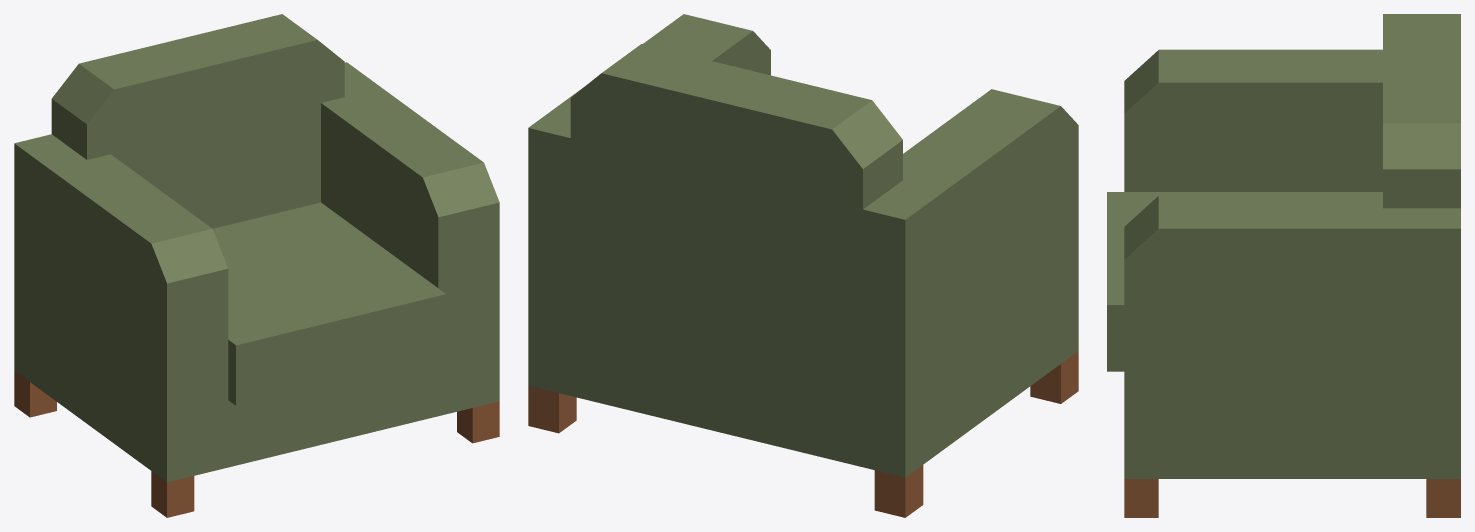
The model's file is loungeChair.fbx.
3 renders of one model, left to right at view 1: azimuth 30°, elevation 25°; view 2: azimuth 150°, elevation 25°; view 3: azimuth 270°, elevation 25°, orthographic. The views are drawn at different scales.
Parts seen in each view (by area): view 1: loungeChair.002; view 2: loungeChair.002; view 3: loungeChair.002.
Boxes of the visible parts, box(x1,y1,x2,y2) form: loungeChair.002: box(14, 14, 499, 517); loungeChair.002: box(528, 14, 1078, 517); loungeChair.002: box(1107, 14, 1460, 517).
Size of the model in its own units: 49 by 46 by 41.
